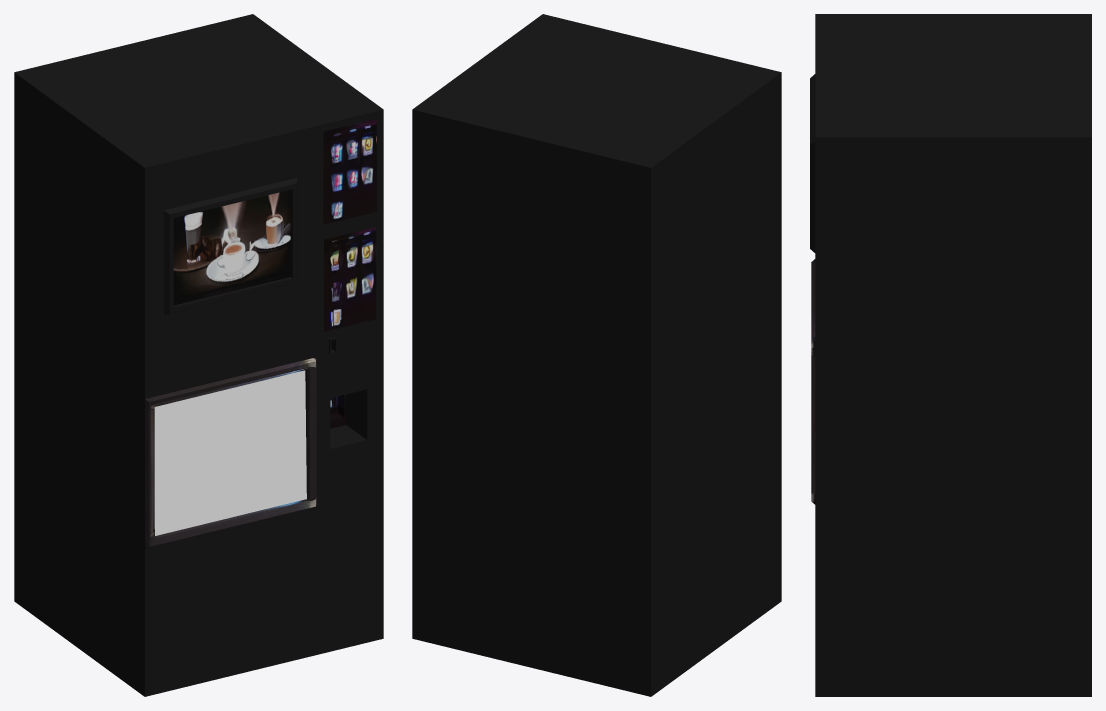
The model's file is CoffeeVendingMachine_Clean.fbx.
3 views of the same model, side by side, from view 1: azimuth 30°, elevation 25°; view 2: azimuth 150°, elevation 25°; view 3: azimuth 270°, elevation 25° (orthographic). The views are drawn at different scales.
Visible parts, largest first — view 1: CoffeeVendingMachine_Clean; view 2: CoffeeVendingMachine_Clean; view 3: CoffeeVendingMachine_Clean.
Boxes of the visible parts, bbox=[...] form: CoffeeVendingMachine_Clean: bbox=[14, 14, 383, 696]; CoffeeVendingMachine_Clean: bbox=[412, 14, 781, 696]; CoffeeVendingMachine_Clean: bbox=[810, 14, 1091, 696].
Size of the model in its own units: 229 by 485 by 221.
